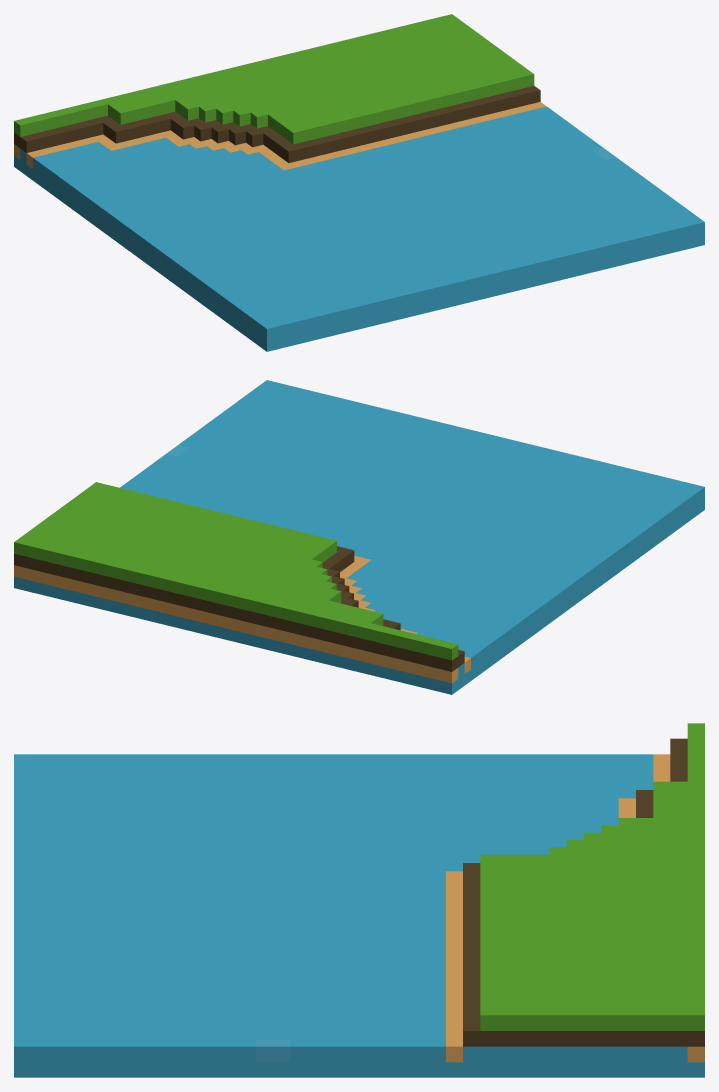
The model's file is river3-0-River.obj.
The picture shows the model from 3 angles, top to bottom: view 1: azimuth 30°, elevation 25°; view 2: azimuth 150°, elevation 25°; view 3: azimuth 270°, elevation 25°; orthographic projection. The views are drawn at different scales.
Parts seen in each view (by area): view 1: River; view 2: River; view 3: River.
Part boxes in pixels (left/top/right/bottom): River: left=14, top=14, right=704, bottom=351; River: left=14, top=380, right=704, bottom=694; River: left=14, top=723, right=704, bottom=1077.
Bounding box in the file's own units: 4 × 0.4 × 4.
Materials: 1 (1 with a texture image).
